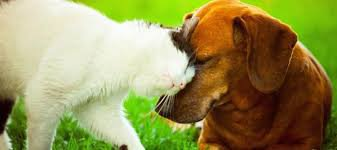cat: (7, 1, 200, 145)
dog: (166, 1, 329, 149)
